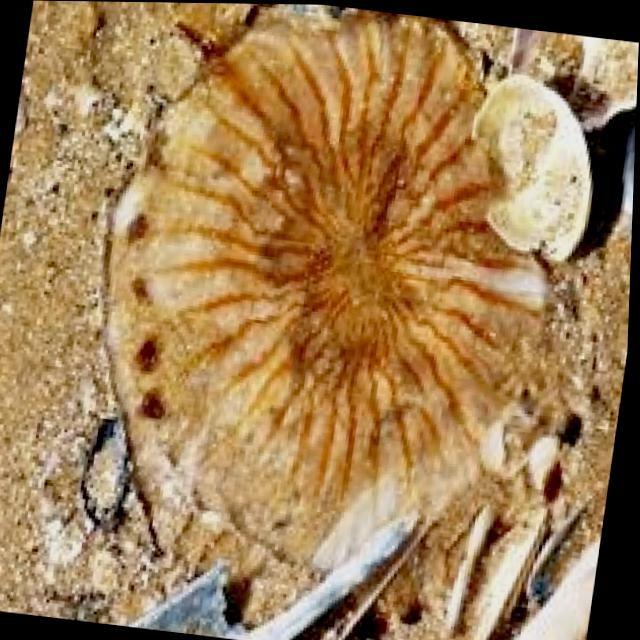Jellyfish: (68, 1, 640, 637)
